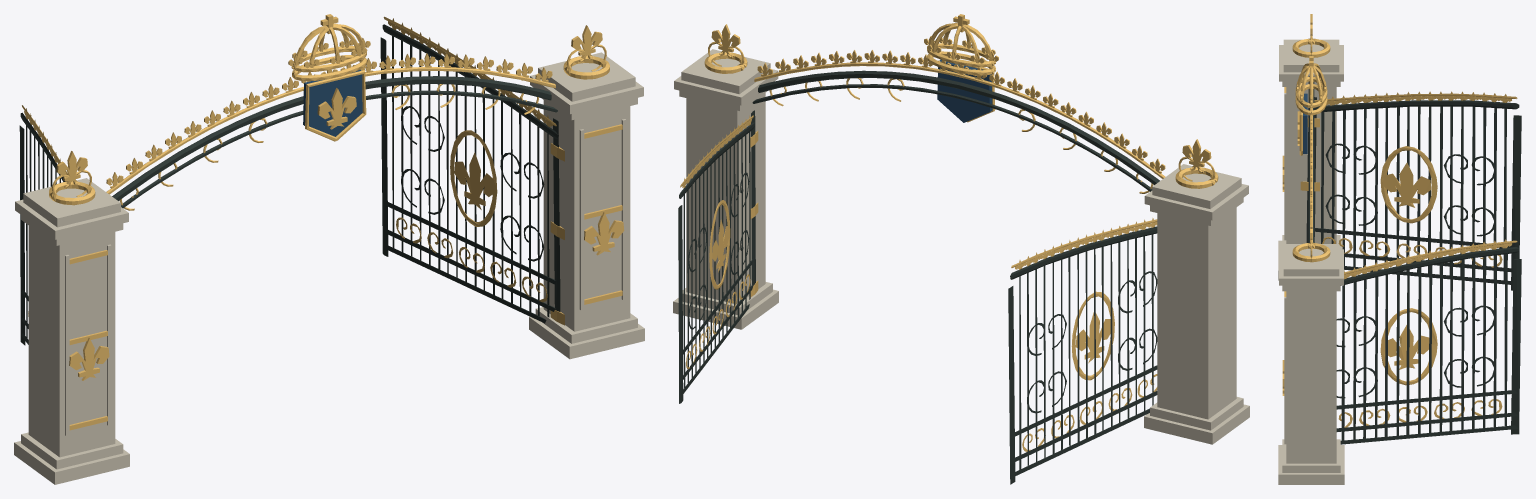
Rendered from royalGateFar.glb.
3 renders of one model, left to right at view 1: azimuth 30°, elevation 25°; view 2: azimuth 150°, elevation 25°; view 3: azimuth 270°, elevation 25°, orthographic. The views are drawn at different scales.
Visible parts, largest first — view 1: Portail royal - couronne fleurs de lys et volutes.003; view 2: Portail royal - couronne fleurs de lys et volutes.003; view 3: Portail royal - couronne fleurs de lys et volutes.003.
Boxes of the visible parts, bbox=[...] form: Portail royal - couronne fleurs de lys et volutes.003: bbox=[14, 14, 644, 484]; Portail royal - couronne fleurs de lys et volutes.003: bbox=[673, 14, 1249, 484]; Portail royal - couronne fleurs de lys et volutes.003: bbox=[1278, 14, 1521, 484].
Size of the model in its own units: 13.75 by 8.52 by 6.04.
